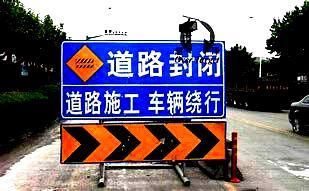sign: (60, 39, 226, 161)
